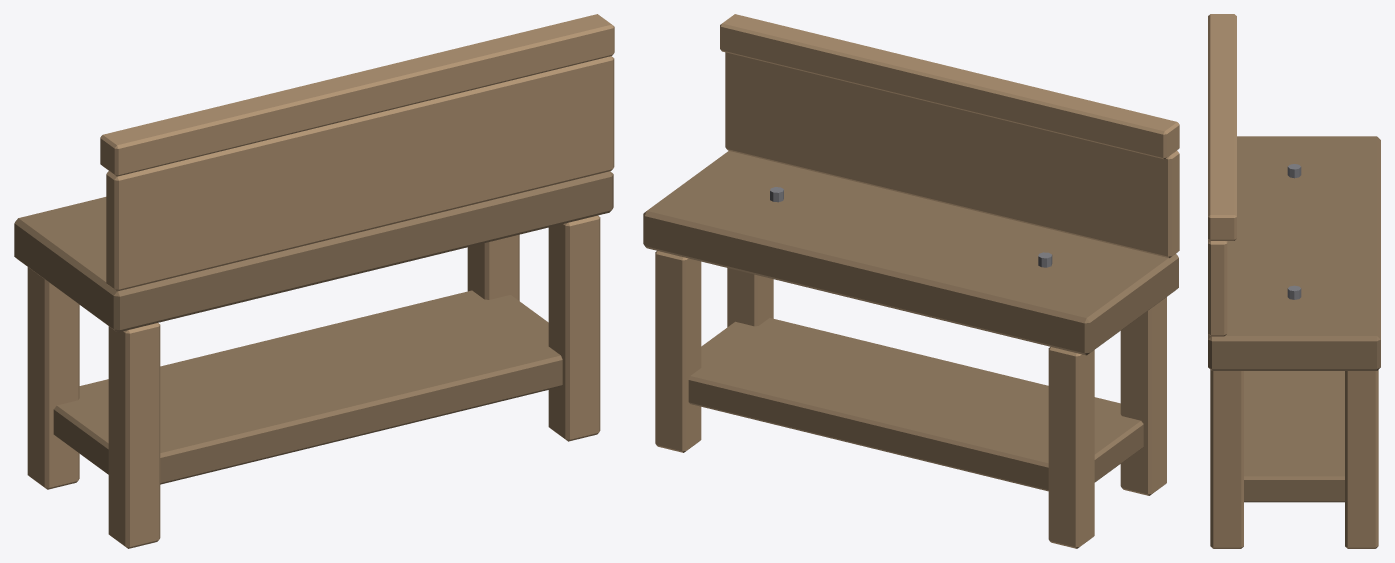
Rendered from prop-tack-bench-wood.fbx.
3 views of the same model, side by side, from view 1: azimuth 30°, elevation 25°; view 2: azimuth 150°, elevation 25°; view 3: azimuth 270°, elevation 25° (orthographic). The views are drawn at different scales.
Parts seen in each view (by area): view 1: prop-tack-bench-wood; view 2: prop-tack-bench-wood; view 3: prop-tack-bench-wood.
Part boxes in pixels (x1=…): prop-tack-bench-wood: x1=14, y1=14, x2=614, y2=548; prop-tack-bench-wood: x1=643, y1=14, x2=1179, y2=548; prop-tack-bench-wood: x1=1208, y1=14, x2=1380, y2=548.
Size of the model in its own units: 1 by 0.78 by 0.36.
